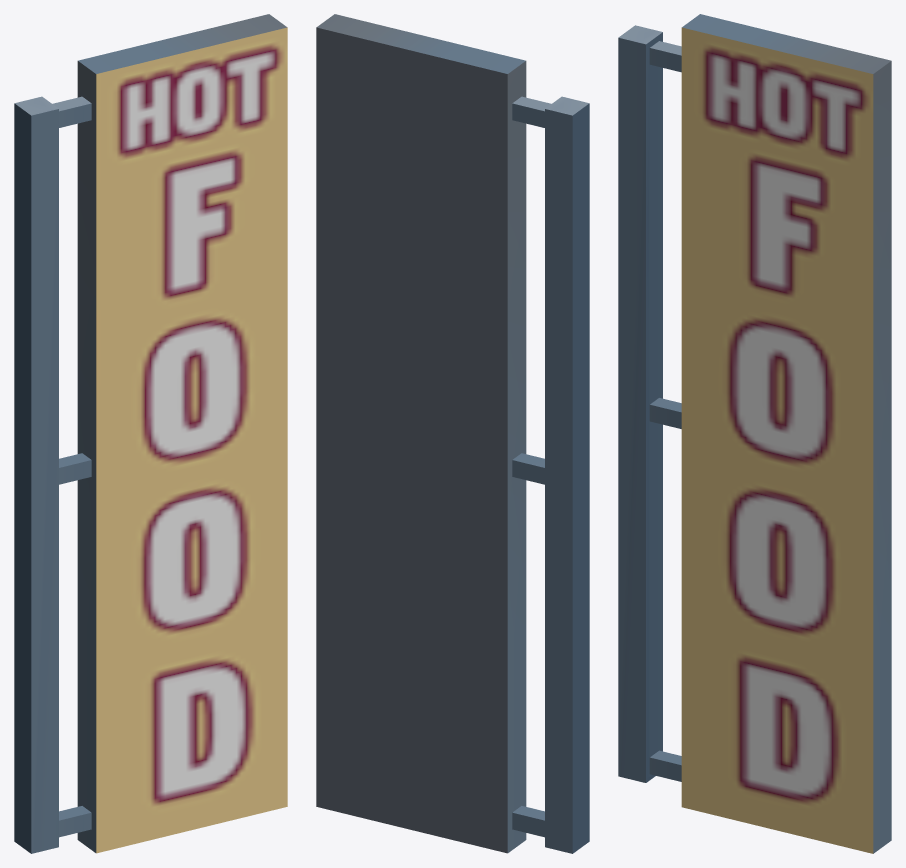
Rendered from SM_Sign_HotFood_01.fbx.
3 renders of one model, left to right at view 1: azimuth 30°, elevation 25°; view 2: azimuth 150°, elevation 25°; view 3: azimuth 330°, elevation 25°, orthographic.
Visible parts, largest first — view 1: SM_Sign_HotFood_01; view 2: SM_Sign_HotFood_01; view 3: SM_Sign_HotFood_01.
Boxes of the visible parts, x1,y1,x2,y2 form: SM_Sign_HotFood_01: (14,14,287,853); SM_Sign_HotFood_01: (316,14,589,853); SM_Sign_HotFood_01: (618,14,891,853).
Bounding box in the file's own units: 1.71 × 5 × 0.2137.
